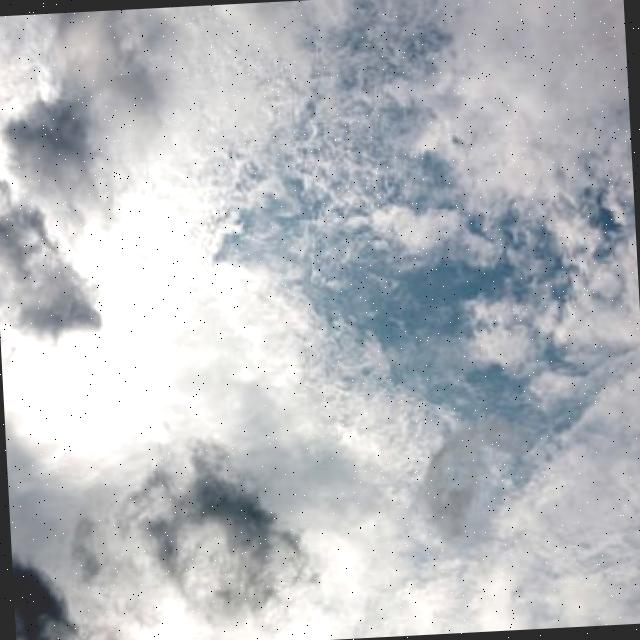Ns: (1, 13, 640, 580)
